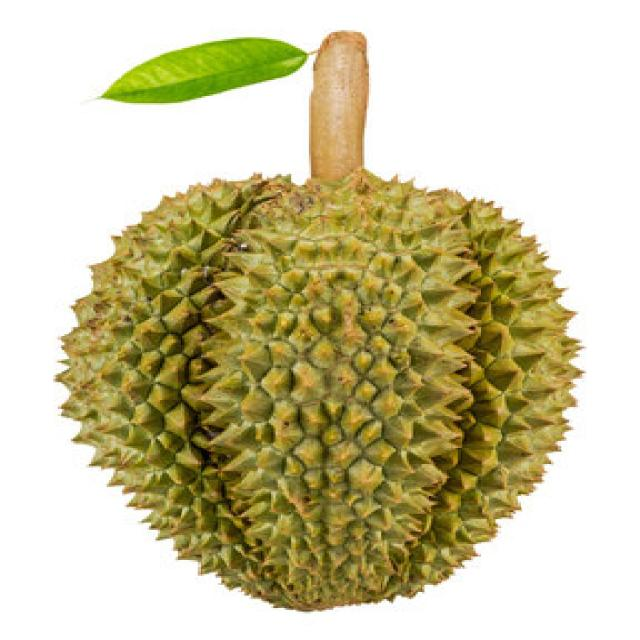durian: (50, 160, 592, 617)
